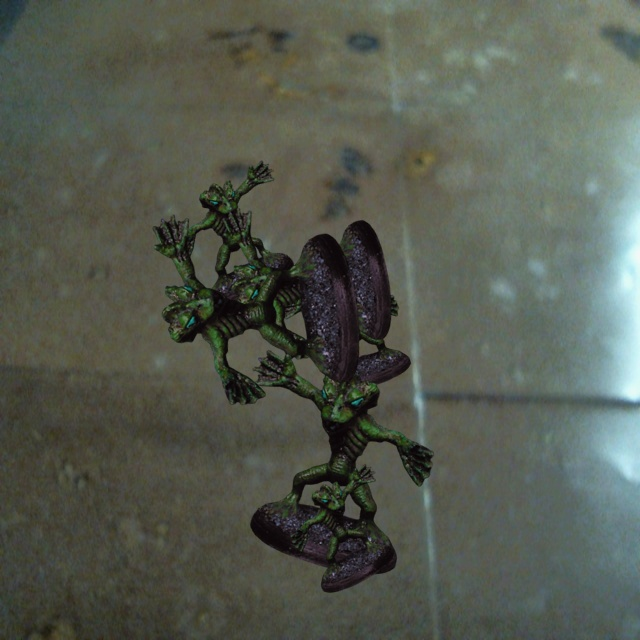pieza_juego: (250, 350, 433, 573), (152, 214, 359, 404), (222, 208, 390, 359), (174, 160, 293, 309), (279, 280, 410, 391), (290, 464, 393, 592)
